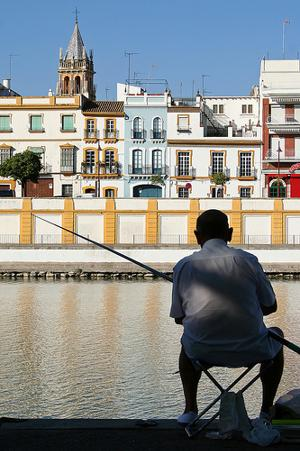person: (170, 211, 286, 426)
